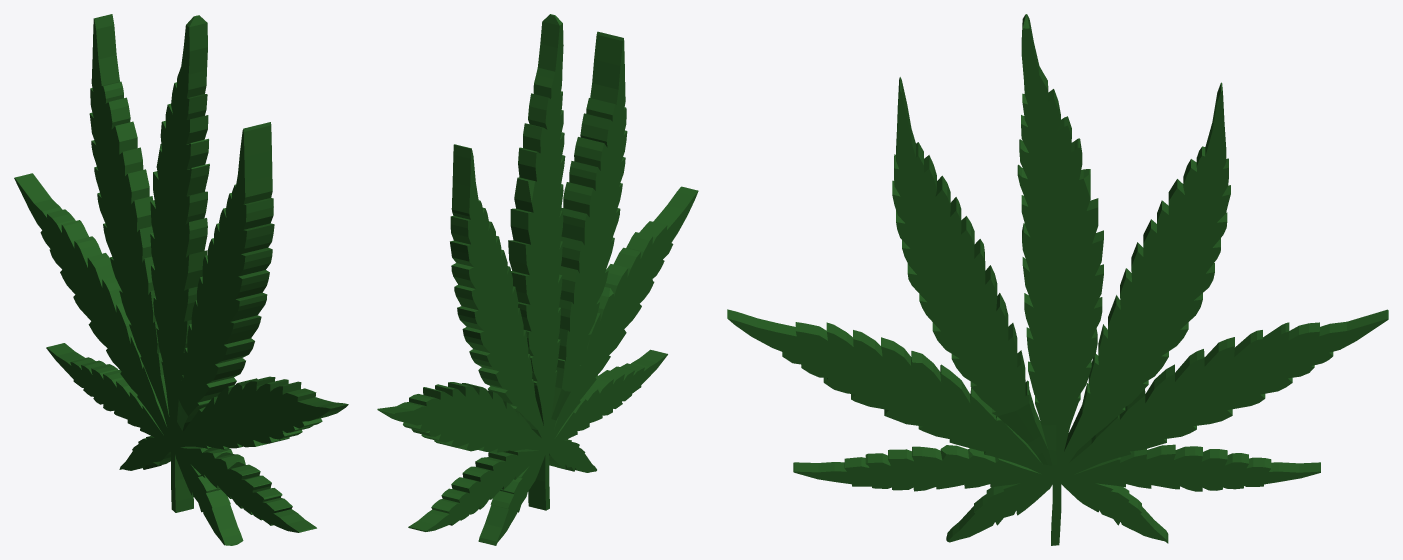
Rendered from Planta_weed.fbx.
3 views of the same model, side by side, from view 1: azimuth 30°, elevation 25°; view 2: azimuth 150°, elevation 25°; view 3: azimuth 270°, elevation 25° (orthographic). The views are drawn at different scales.
Parts seen in each view (by area): view 1: Cube.046; view 2: Cube.046; view 3: Cube.046.
Part boxes in pixels (box(x1,y1,x2,y2)): Cube.046: box(14, 14, 348, 545); Cube.046: box(377, 14, 698, 545); Cube.046: box(727, 14, 1388, 545).
Bounding box in the file's own units: 240 × 4204 × 4789.
